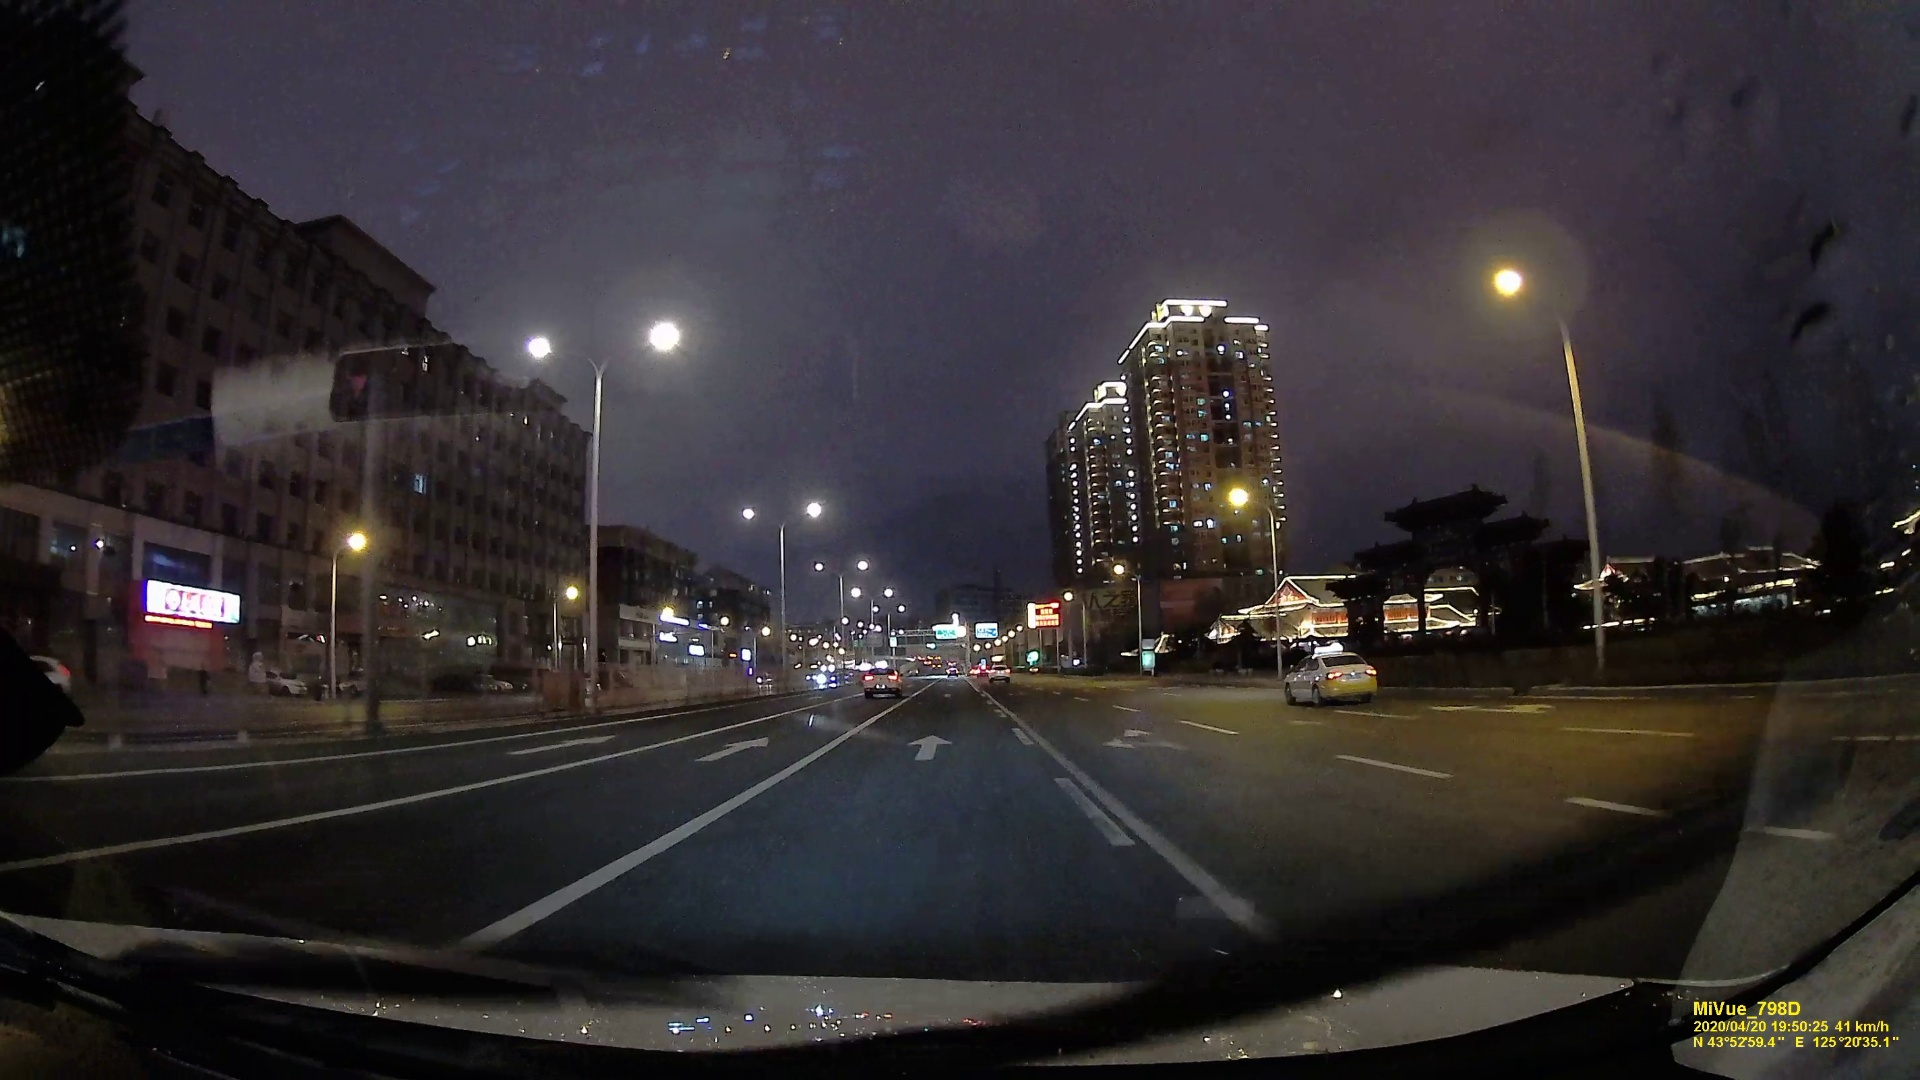traffic_sign: (976, 622, 1000, 637), (936, 624, 957, 640)
vehicle: (1282, 649, 1381, 708), (862, 666, 899, 695), (986, 665, 1009, 680)
